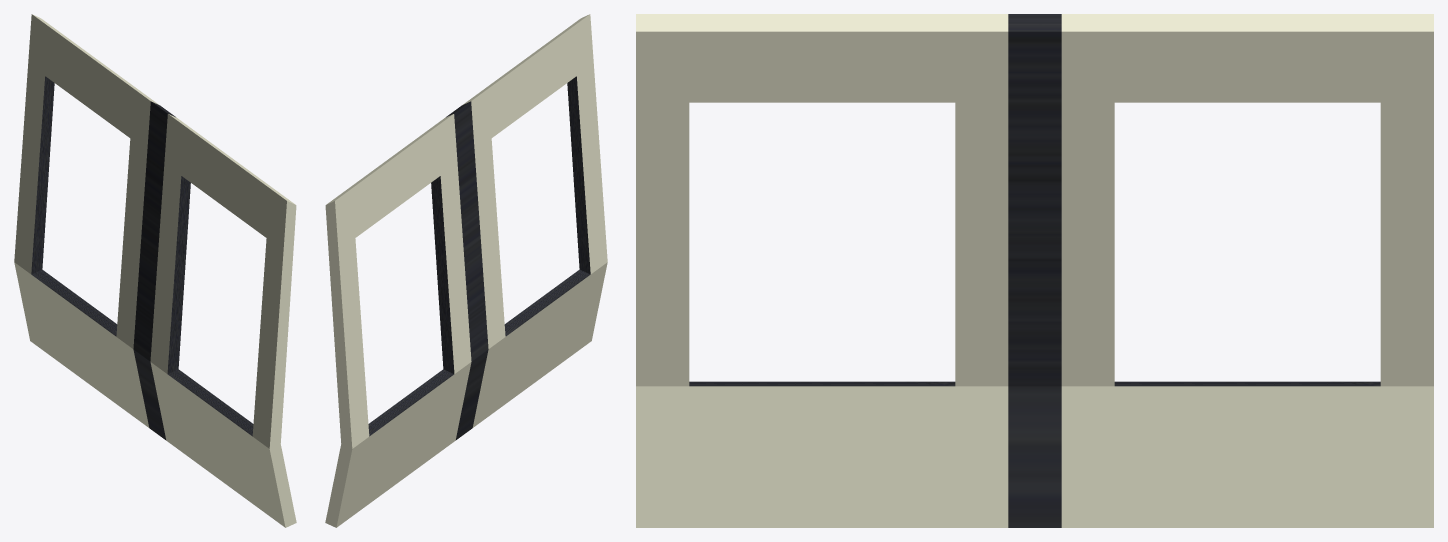
Rendered from subwaySideDoor.glb.
3 renders of one model, left to right at view 1: azimuth 30°, elevation 25°; view 2: azimuth 150°, elevation 25°; view 3: azimuth 270°, elevation 25°, orthographic. The views are drawn at different scales.
Visible parts, largest first — view 1: Cube.003; view 2: Cube.003; view 3: Cube.003.
Part boxes in pixels (x1=…): Cube.003: x1=14, y1=14, x2=296, y2=527; Cube.003: x1=325, y1=14, x2=607, y2=527; Cube.003: x1=636, y1=14, x2=1433, y2=527.
Size of the model in its own units: 0.6709 by 7.73 by 10.96.
Materials: 2 (1 with a texture image).
